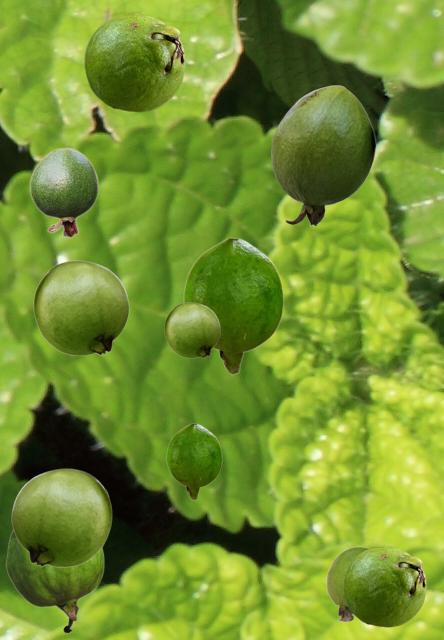guava: (271, 85, 375, 225), (183, 237, 283, 374), (5, 529, 103, 632), (84, 13, 184, 111), (11, 468, 111, 566), (33, 260, 128, 355), (343, 546, 425, 626), (29, 147, 98, 237), (166, 423, 221, 499), (326, 546, 369, 621), (164, 302, 219, 357)
